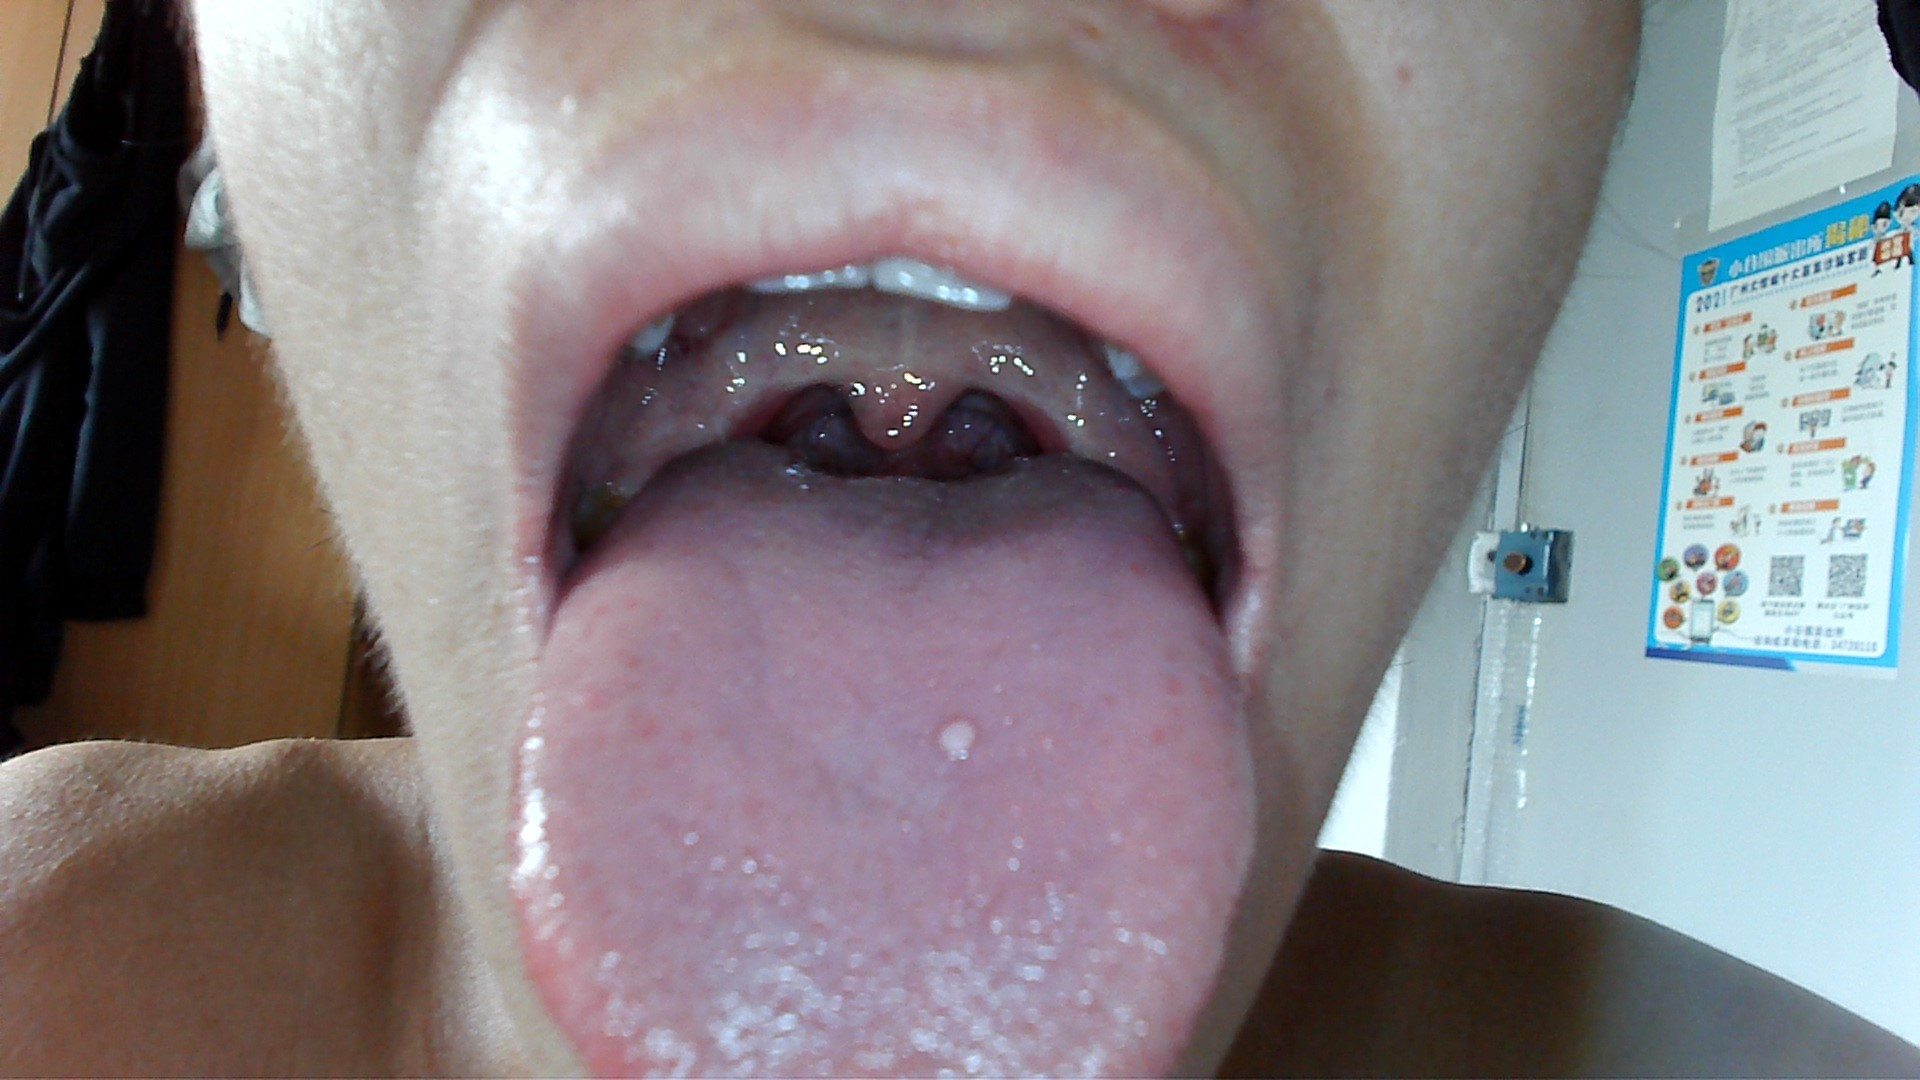throat: (998, 340, 1077, 456), (723, 324, 790, 440)
